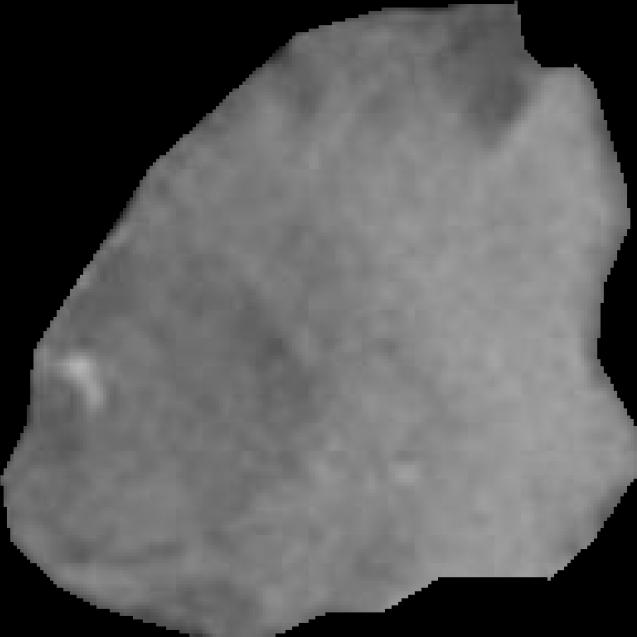tumor_moderate_chance: (0, 1, 637, 637)
